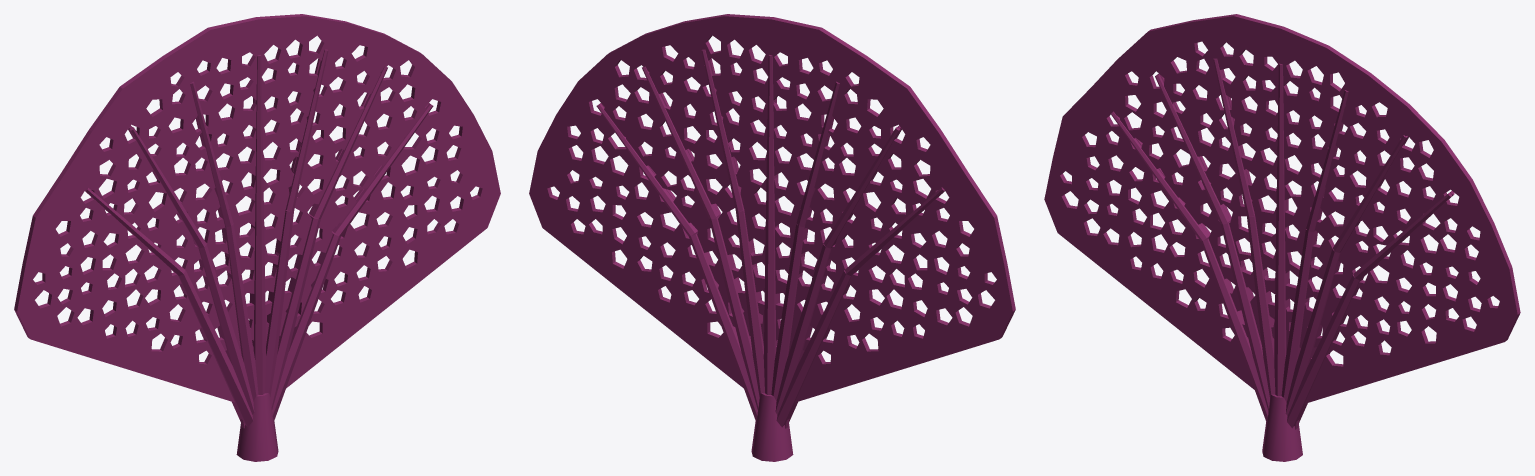
Rendered from fan.glb.
3 views of the same model, side by side, from view 1: azimuth 30°, elevation 25°; view 2: azimuth 150°, elevation 25°; view 3: azimuth 330°, elevation 25° (orthographic). The views are drawn at different scales.
Visible parts, largest first — view 1: lattice, fan4, fan2, fan6, fan12, fan14, fan8, fan0, fan10, fan5, fan3, fan1 (+4 smaller); view 2: lattice, fan4_mz, fan2_mz, fan6_mz, fan12_mz, fan14, fan8_mz, fan0_mz, fan10_mz, fan5_mz, fan3_mz, fan1_mz (+4 smaller); view 3: lattice, fan6, fan8, fan0, fan10, fan4, fan14, fan12, fan2, fan9, fan11, fan7 (+4 smaller).
Part boxes in pixels (<box>): lattice: <box>14,14,500,428</box>; fan4: <box>265,210,293,396</box>; fan2: <box>270,216,320,409</box>; fan6: <box>252,212,266,394</box>; fan12: <box>178,270,253,427</box>; fan14: <box>236,393,278,461</box>; fan8: <box>224,224,258,401</box>; fan0: <box>272,232,340,420</box>; fan10: <box>198,244,254,414</box>; fan5: <box>285,49,328,211</box>; fan3: <box>311,66,387,219</box>; fan1: <box>332,103,433,236</box>; lattice: <box>529,14,1015,428</box>; fan4_mz: <box>736,210,764,396</box>; fan2_mz: <box>709,216,759,409</box>; fan6_mz: <box>763,212,777,394</box>; fan12_mz: <box>776,270,851,427</box>; fan14: <box>751,393,793,461</box>; fan8_mz: <box>771,224,805,401</box>; fan0_mz: <box>689,233,757,420</box>; fan10_mz: <box>775,244,831,414</box>; fan5_mz: <box>701,49,744,211</box>; fan3_mz: <box>642,66,718,219</box>; fan1_mz: <box>596,103,697,236</box>; lattice: <box>1044,14,1520,429</box>; fan6: <box>1274,218,1287,396</box>; fan8: <box>1247,215,1275,398</box>; fan0: <box>1287,274,1361,428</box>; fan10: <box>1220,221,1269,411</box>; fan4: <box>1281,229,1315,402</box>; fan14: <box>1262,394,1302,461</box>; fan12: <box>1201,237,1268,421</box>; fan2: <box>1285,248,1340,415</box>; fan9: <box>1213,58,1254,216</box>; fan11: <box>1155,74,1229,224</box>; fan7: <box>1276,63,1286,219</box>.
Size of the model in its own units: 1.31 by 1.13 by 0.1.
